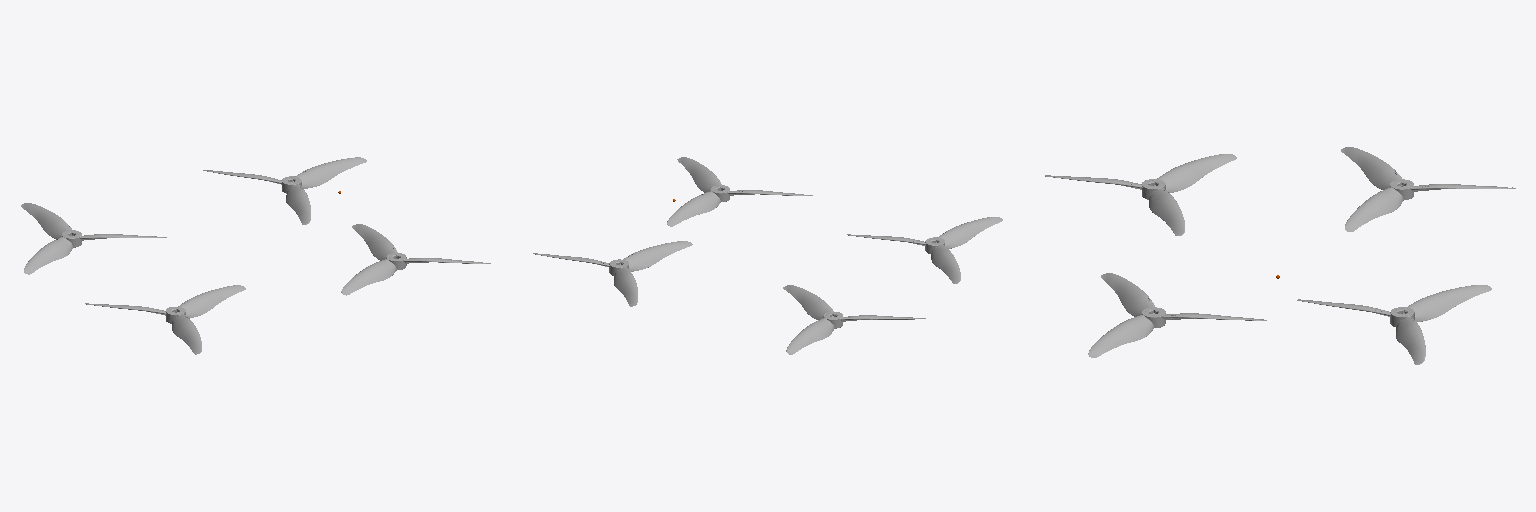
robot.urdf — drone_acc_mass_sitl:
<?xml version="1.0" ?>
<!-- =================================================================================== -->
<!-- |    Fixed URDF for Isaac Sim / IsaacLab compatibility                             | -->
<!-- |    Changes: package:// paths -> relative, hyphens -> underscores,                | -->
<!-- |             spaces in names -> underscores                                       | -->
<!-- =================================================================================== -->
<robot name="drone_acc_mass_sitl">
  <material name="silver">
    <color rgba="0.700 0.700 0.700 1.000"/>
  </material>
  <transmission name="Revolute_15_tran">
    <type>transmission_interface/SimpleTransmission</type>
    <joint name="Revolute_15">
      <hardwareInterface>hardware_interface/EffortJointInterface</hardwareInterface>
    </joint>
    <actuator name="Revolute_15_actr">
      <hardwareInterface>hardware_interface/EffortJointInterface</hardwareInterface>
      <mechanicalReduction>1</mechanicalReduction>
    </actuator>
  </transmission>
  <transmission name="Revolute_16_tran">
    <type>transmission_interface/SimpleTransmission</type>
    <joint name="Revolute_16">
      <hardwareInterface>hardware_interface/EffortJointInterface</hardwareInterface>
    </joint>
    <actuator name="Revolute_16_actr">
      <hardwareInterface>hardware_interface/EffortJointInterface</hardwareInterface>
      <mechanicalReduction>1</mechanicalReduction>
    </actuator>
  </transmission>
  <transmission name="Revolute_17_tran">
    <type>transmission_interface/SimpleTransmission</type>
    <joint name="Revolute_17">
      <hardwareInterface>hardware_interface/EffortJointInterface</hardwareInterface>
    </joint>
    <actuator name="Revolute_17_actr">
      <hardwareInterface>hardware_interface/EffortJointInterface</hardwareInterface>
      <mechanicalReduction>1</mechanicalReduction>
    </actuator>
  </transmission>
  <transmission name="Revolute_18_tran">
    <type>transmission_interface/SimpleTransmission</type>
    <joint name="Revolute_18">
      <hardwareInterface>hardware_interface/EffortJointInterface</hardwareInterface>
    </joint>
    <actuator name="Revolute_18_actr">
      <hardwareInterface>hardware_interface/EffortJointInterface</hardwareInterface>
      <mechanicalReduction>1</mechanicalReduction>
    </actuator>
  </transmission>
  <gazebo>
    <plugin filename="libgazebo_ros_control.so" name="control"/>
  </gazebo>
  <gazebo reference="base_link">
    <material>Gazebo/Silver</material>
    <mu1>0.2</mu1>
    <mu2>0.2</mu2>
    <selfCollide>true</selfCollide>
    <gravity>true</gravity>
  </gazebo>
  <gazebo reference="FL_5_inch_CW_prop_1_1_1">
    <material>Gazebo/Silver</material>
    <mu1>0.2</mu1>
    <mu2>0.2</mu2>
    <selfCollide>true</selfCollide>
  </gazebo>
  <gazebo reference="FR_5_inch_CCW_prop_1_1_1">
    <material>Gazebo/Silver</material>
    <mu1>0.2</mu1>
    <mu2>0.2</mu2>
    <selfCollide>true</selfCollide>
  </gazebo>
  <gazebo reference="BL_5_inch_CCW_prop_1_1_1">
    <material>Gazebo/Silver</material>
    <mu1>0.2</mu1>
    <mu2>0.2</mu2>
    <selfCollide>true</selfCollide>
  </gazebo>
  <gazebo reference="BR_5_inch_CW_prop_1_1_1">
    <material>Gazebo/Silver</material>
    <mu1>0.2</mu1>
    <mu2>0.2</mu2>
    <selfCollide>true</selfCollide>
  </gazebo>
  <link name="base_link">
    <inertial>
      <origin rpy="0 0 0" xyz="0.004839178109627602 0.0034084153156952045 0.00927557259352703"/>
      <mass value="0.8351086449771665"/>
      <inertia ixx="0.002158" ixy="1e-06" ixz="-8.5e-05" iyy="0.002919" iyz="-4.3e-05" izz="0.002743"/>
    </inertial>
    <visual>
      <origin rpy="0 0 0" xyz="0 0 0"/>
      <geometry>
        <mesh filename="meshes/base_link.stl" scale="0.001 0.001 0.001"/>
      </geometry>
      <material name="silver"/>
    </visual>
    <collision>
      <origin rpy="0 0 0" xyz="0 0 0"/>
      <geometry>
        <mesh filename="meshes/base_link.stl" scale="0.001 0.001 0.001"/>
      </geometry>
    </collision>
  </link>
  <link name="FL_5_inch_CW_prop_1_1_1">
    <inertial>
      <origin rpy="0 0 0" xyz="-4.954987216920781e-07 1.1728228729718237e-06 0.0049229474950758245"/>
      <mass value="1e-9"/>
      <inertia ixx="1e-15" ixy="0" ixz="0" iyy="1e-15" iyz="0" izz="1e-15"/>
    </inertial>
    <visual>
      <origin rpy="0 0 0" xyz="-0.088628 0.068017 -0.040514"/>
      <geometry>
        <mesh filename="meshes/FL_5_inch_CW_prop_1_1_1.stl" scale="0.001 0.001 0.001"/>
      </geometry>
      <material name="silver"/>
    </visual>
    <collision>
      <origin rpy="0 0 0" xyz="-0.088628 0.068017 -0.040514"/>
      <geometry>
        <mesh filename="meshes/FL_5_inch_CW_prop_1_1_1.stl" scale="0.001 0.001 0.001"/>
      </geometry>
    </collision>
  </link>
  <link name="FR_5_inch_CCW_prop_1_1_1">
    <inertial>
      <origin rpy="0 0 0" xyz="2.1208467563677003e-06 -1.0094753889744457e-07 0.00492294826402425"/>
      <mass value="1e-9"/>
      <inertia ixx="1e-15" ixy="0" ixz="0" iyy="1e-15" iyz="0" izz="1e-15"/>
    </inertial>
    <visual>
      <origin rpy="0 0 0" xyz="-0.088431 -0.072039 -0.040514"/>
      <geometry>
        <mesh filename="meshes/FR_5_inch_CCW_prop_1_1_1.stl" scale="0.001 0.001 0.001"/>
      </geometry>
      <material name="silver"/>
    </visual>
    <collision>
      <origin rpy="0 0 0" xyz="-0.088431 -0.072039 -0.040514"/>
      <geometry>
        <mesh filename="meshes/FR_5_inch_CCW_prop_1_1_1.stl" scale="0.001 0.001 0.001"/>
      </geometry>
    </collision>
  </link>
  <link name="BL_5_inch_CCW_prop_1_1_1">
    <inertial>
      <origin rpy="0 0 0" xyz="1.6896728732007649e-06 -4.6309921052090086e-07 0.004922948264024916"/>
      <mass value="1e-9"/>
      <inertia ixx="1e-15" ixy="0" ixz="0" iyy="1e-15" iyz="0" izz="1e-15"/>
    </inertial>
    <visual>
      <origin rpy="0 0 0" xyz="0.082176 0.068017 -0.040514"/>
      <geometry>
        <mesh filename="meshes/BL_5_inch_CCW_prop_1_1_1.stl" scale="0.001 0.001 0.001"/>
      </geometry>
      <material name="silver"/>
    </visual>
    <collision>
      <origin rpy="0 0 0" xyz="0.082176 0.068017 -0.040514"/>
      <geometry>
        <mesh filename="meshes/BL_5_inch_CCW_prop_1_1_1.stl" scale="0.001 0.001 0.001"/>
      </geometry>
    </collision>
  </link>
  <link name="BR_5_inch_CW_prop_1_1_1">
    <inertial>
      <origin rpy="0 0 0" xyz="5.7189728425166564e-08 1.2673309276733935e-06 0.004922947500933514"/>
      <mass value="1e-9"/>
      <inertia ixx="1e-15" ixy="0" ixz="0" iyy="1e-15" iyz="0" izz="1e-15"/>
    </inertial>
    <visual>
      <origin rpy="0 0 0" xyz="0.081841 -0.071798 -0.040514"/>
      <geometry>
        <mesh filename="meshes/BR_5_inch_CW_prop_1_1_1.stl" scale="0.001 0.001 0.001"/>
      </geometry>
      <material name="silver"/>
    </visual>
    <collision>
      <origin rpy="0 0 0" xyz="0.081841 -0.071798 -0.040514"/>
      <geometry>
        <mesh filename="meshes/BR_5_inch_CW_prop_1_1_1.stl" scale="0.001 0.001 0.001"/>
      </geometry>
    </collision>
  </link>
  <!--
    camera_keypoint: marker frame vs base_link — translation only [85.196, 1.872, 67.774] mm,
    same orientation as base_link (rpy=0). Isaac: find_bodies("camera_keypoint").
    Tiny sphere visual required so URDF→USD converter resolves /visuals/camera_keypoint
    in anemos_physics.usd (without it the anemos_base.usd reference is dangling).
  -->
  <link name="camera_keypoint">
    <inertial>
      <origin rpy="0 0 0" xyz="0 0 0"/>
      <mass value="1e-9"/>
      <inertia ixx="1e-15" ixy="0" ixz="0" iyy="1e-15" iyz="0" izz="1e-15"/>
    </inertial>
    <visual>
      <origin rpy="0 0 0" xyz="0 0 0"/>
      <geometry>
        <sphere radius="0.001"/>
      </geometry>
    </visual>
  </link>
  <joint name="Revolute_15" type="continuous">
    <origin rpy="0 0 0" xyz="0.088628 -0.068017 0.040514"/>
    <parent link="base_link"/>
    <child link="FL_5_inch_CW_prop_1_1_1"/>
    <axis xyz="0.0 -0.0 1.0"/>
  </joint>
  <joint name="Revolute_16" type="continuous">
    <origin rpy="0 0 0" xyz="0.088431 0.072039 0.040514"/>
    <parent link="base_link"/>
    <child link="FR_5_inch_CCW_prop_1_1_1"/>
    <axis xyz="0.0 0.0 1.0"/>
  </joint>
  <joint name="Revolute_17" type="continuous">
    <origin rpy="0 0 0" xyz="-0.082176 -0.068017 0.040514"/>
    <parent link="base_link"/>
    <child link="BL_5_inch_CCW_prop_1_1_1"/>
    <axis xyz="0.0 0.0 1.0"/>
  </joint>
  <joint name="Revolute_18" type="continuous">
    <origin rpy="0 0 0" xyz="-0.081841 0.071798 0.040514"/>
    <parent link="base_link"/>
    <child link="BR_5_inch_CW_prop_1_1_1"/>
    <axis xyz="0.0 -0.0 1.0"/>
  </joint>
  <joint name="camera_keypoint_fixed" type="fixed">
      <origin rpy="0 -0.523599 0" xyz="0.085196 0.001872 0.067774"/>
      <parent link="base_link"/>
      <child link="camera_keypoint"/>
  </joint>
</robot>

--- What the picture shows (computed from the rendered views, not written in the file) ---
Views: 3 orthographic renders of the robot side by side, from view 1: azimuth 30°, elevation 25°; view 2: azimuth 150°, elevation 25°; view 3: azimuth 270°, elevation 25°.
Model drone_acc_mass_sitl with 6 links and 5 joints (4 continuous, 1 fixed), rooted at base_link, posed all joints at 0.
Links seen in each view (by area): view 1: FL_5_inch_CW_prop_1_1_1, BR_5_inch_CW_prop_1_1_1, BL_5_inch_CCW_prop_1_1_1, FR_5_inch_CCW_prop_1_1_1; view 2: BR_5_inch_CW_prop_1_1_1, FL_5_inch_CW_prop_1_1_1, BL_5_inch_CCW_prop_1_1_1, FR_5_inch_CCW_prop_1_1_1; view 3: FL_5_inch_CW_prop_1_1_1, BR_5_inch_CW_prop_1_1_1, BL_5_inch_CCW_prop_1_1_1, FR_5_inch_CCW_prop_1_1_1.
Boxes of the visible links, x1,y1,x2,y2 form: FL_5_inch_CW_prop_1_1_1: (341, 224, 490, 295); BR_5_inch_CW_prop_1_1_1: (21, 203, 166, 274); BL_5_inch_CCW_prop_1_1_1: (85, 285, 245, 354); FR_5_inch_CCW_prop_1_1_1: (203, 157, 366, 224); BR_5_inch_CW_prop_1_1_1: (783, 285, 925, 354); FL_5_inch_CW_prop_1_1_1: (667, 157, 812, 226); BL_5_inch_CCW_prop_1_1_1: (847, 217, 1002, 283); FR_5_inch_CCW_prop_1_1_1: (533, 241, 692, 306); FL_5_inch_CW_prop_1_1_1: (1088, 273, 1266, 357); BR_5_inch_CW_prop_1_1_1: (1341, 147, 1515, 231); BL_5_inch_CCW_prop_1_1_1: (1045, 154, 1236, 235); FR_5_inch_CCW_prop_1_1_1: (1297, 285, 1491, 364).
Size in the robot's own frame: 0.2886 by 0.2653 by 0.0283 metres.
4 mesh visuals loaded from 5 distinct referenced files (4 binary STL); not drawn: 1 (reference not matched to a file when rendering).
